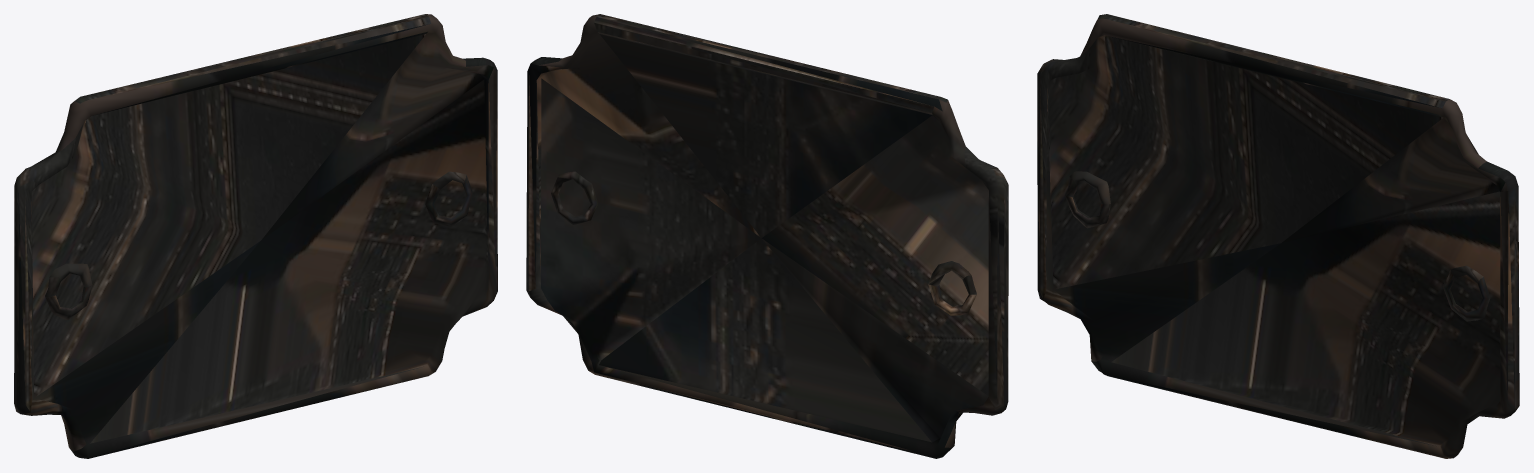
File: RoomNumber3.fbx
3 renders of one model, left to right at view 1: azimuth 30°, elevation 25°; view 2: azimuth 150°, elevation 25°; view 3: azimuth 330°, elevation 25°, orthographic.
Visible parts, largest first — view 1: RoomNumber3; view 2: RoomNumber3; view 3: RoomNumber3.
Part boxes in pixels (<box>): RoomNumber3: <box>14,14,497,458</box>; RoomNumber3: <box>526,14,1008,458</box>; RoomNumber3: <box>1037,14,1519,458</box>.
Bounding box in the file's own units: 169 × 121 × 6.7.
